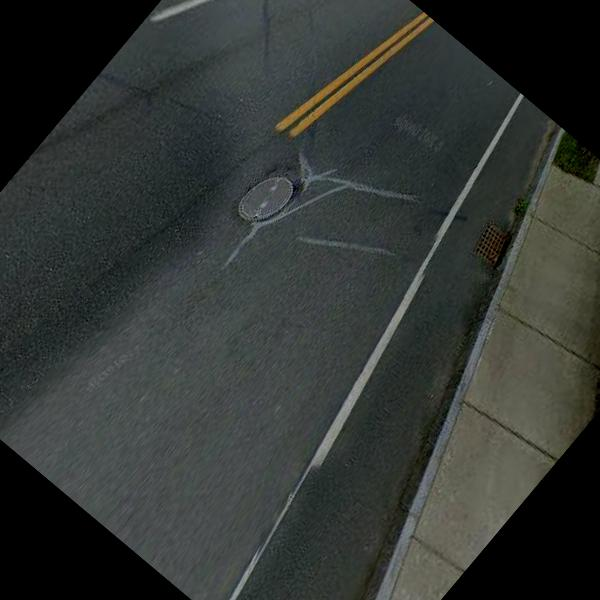manhole: (214, 146, 315, 254)
